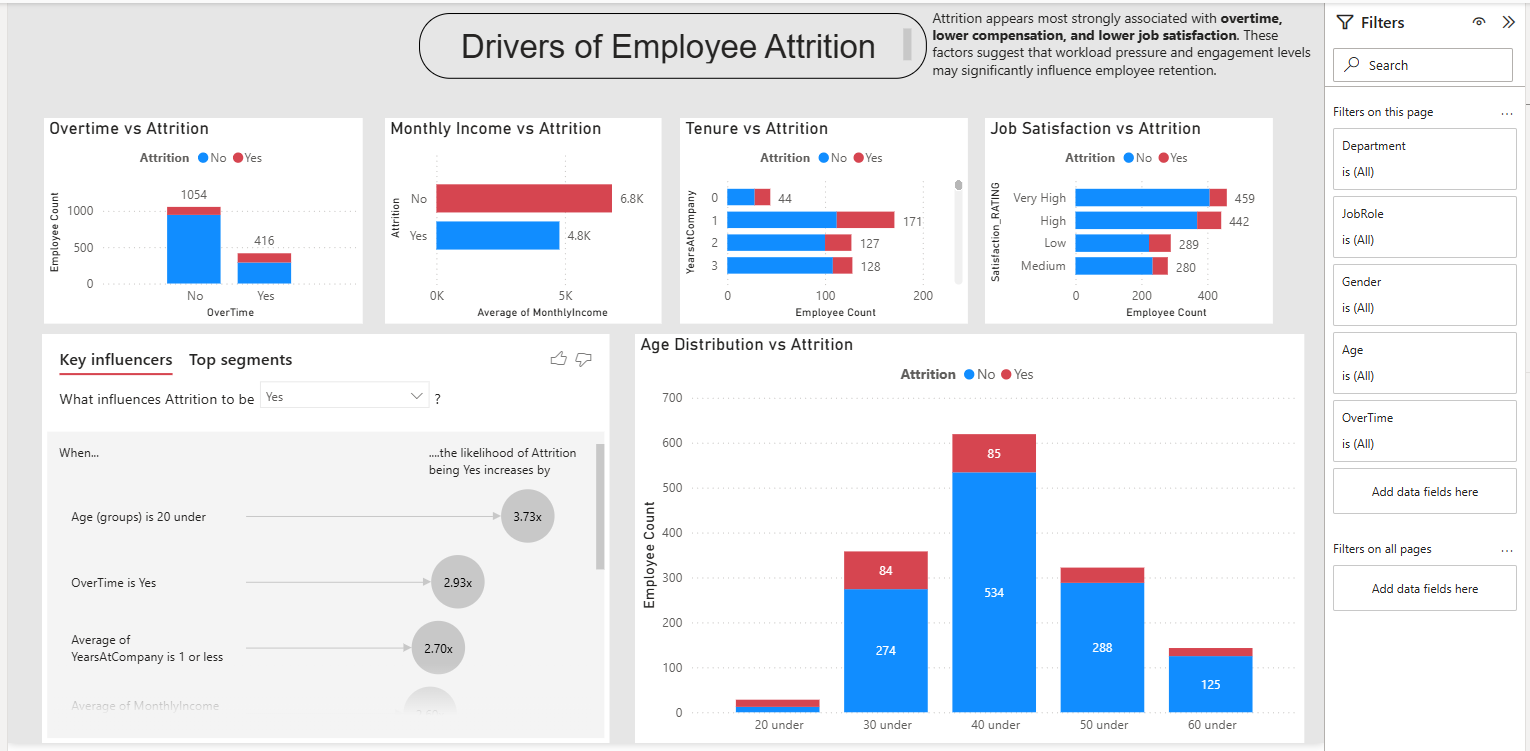

This screenshot's page, from the dashboard's own definition file:
{"tool":"powerbi","page":{"name":"Drivers ","canvas":[1280,720],"ordinal":1},"visuals":[{"type":"textbox","box":[400,10,494.3,64.3],"z":0},{"type":"columnChart","title":"Overtime vs Attrition","fields":{"Category":["attrition_clean_v1.OverTime"],"Y":["attrition_clean_v1.Employee Count"],"Series":["attrition_clean_v1.Attrition"]},"box":[34.9,112.3,310,200],"z":1000},{"type":"clusteredBarChart","title":"Monthly Income vs Attrition","fields":{"Y":["Avg(attrition_clean_v1.MonthlyIncome)"],"Category":["attrition_clean_v1.Attrition"]},"box":[366.3,112.3,268.6,200],"z":2000},{"type":"keyDriversVisual","fields":{"Target":["attrition_clean_v1.Attrition"],"ExplainBy":["attrition_clean_v1.Age (groups)","attrition_clean_v1.Department","Avg(attrition_clean_v1.YearsInCurrentRole)","Avg(attrition_clean_v1.YearsAtCompany)","Avg(attrition_clean_v1.MonthlyIncome)","attrition_clean_v1.OverTime","DimJobSatisfaction.Satisfaction_RATING"]},"box":[33,322.2,551.7,398.3],"z":3000},{"type":"columnChart","title":"Age Distribution vs Attrition","fields":{"Category":["attrition_clean_v1.Age (groups)"],"Series":["attrition_clean_v1.Attrition"],"Y":["attrition_clean_v1.Employee Count"]},"box":[610.1,322.2,650.7,398.3],"z":4000},{"type":"barChart","title":"Tenure vs Attrition","fields":{"Category":["attrition_clean_v1.YearsAtCompany"],"Y":["attrition_clean_v1.Employee Count"],"Series":["attrition_clean_v1.Attrition"]},"box":[653.5,112.3,280,200],"z":5000},{"type":"barChart","title":"Job Satisfaction vs Attrition  ","fields":{"Category":["DimJobSatisfaction.Satisfaction_RATING"],"Y":["attrition_clean_v1.Employee Count"],"Series":["attrition_clean_v1.Attrition"]},"box":[950.6,112.3,280,200],"z":6000},{"type":"textbox","box":[894.2,0,385.6,112.9],"z":7000}]}

Visuals, with their boxes on the page's 1280x720 design canvas (x1, y1, x2, y2). These are canvas units, not pixel positions in the 1530x751 screenshot, which may show the page scaled, cropped or inside an application window:
textbox: [400,10,894,74]
"Overtime vs Attrition" columnChart: [35,112,345,312]
"Monthly Income vs Attrition" clusteredBarChart: [366,112,635,312]
keyDriversVisual - attrition_clean_v1.Attrition x attrition_clean_v1.Age (groups): [33,322,585,720]
"Age Distribution vs Attrition" columnChart: [610,322,1261,720]
"Tenure vs Attrition" barChart: [654,112,934,312]
"Job Satisfaction vs Attrition  " barChart: [951,112,1231,312]
textbox: [894,0,1280,113]
